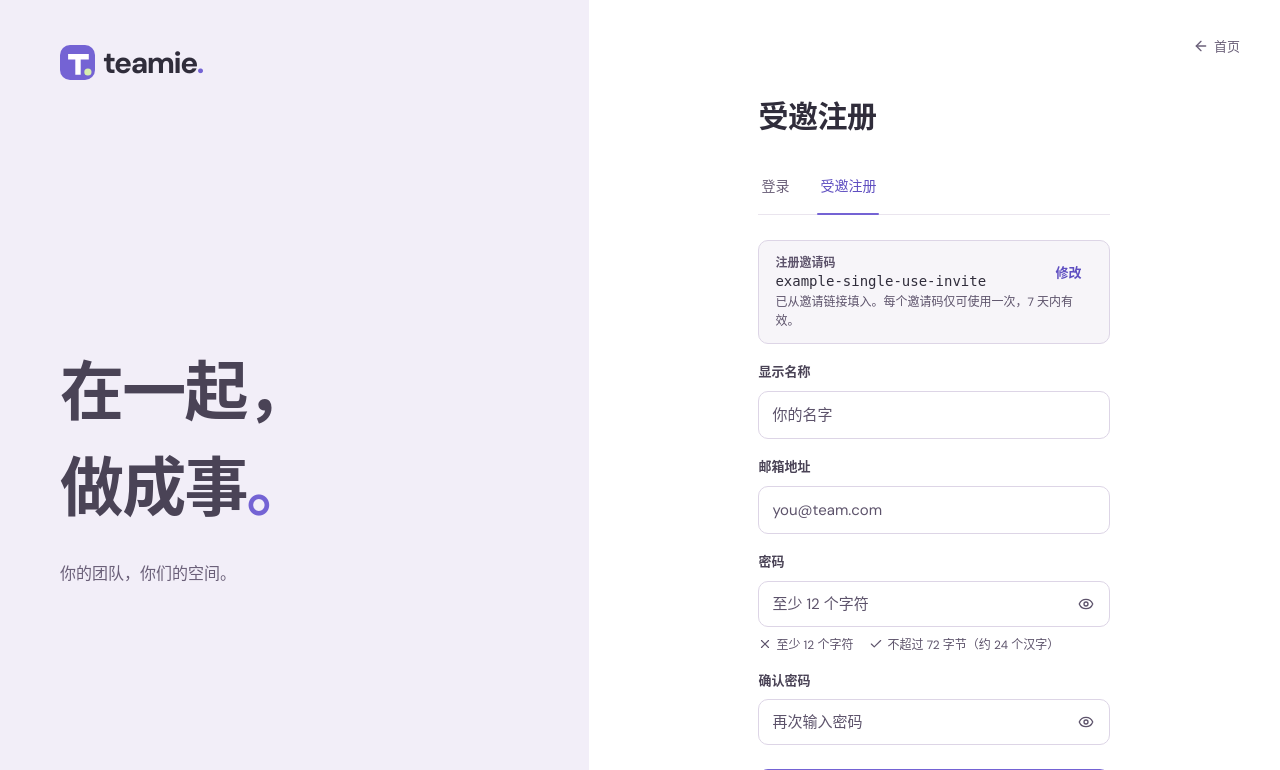
Scenario: registration confirmation › registers with only the contract fields after a matching confirmation
The image size is (1280, 770).
Type "测试伙伴" into the field labelled "显示名称".
click(934, 415); type("测试伙伴")  # box x1=758 y1=391 x2=1110 y2=439
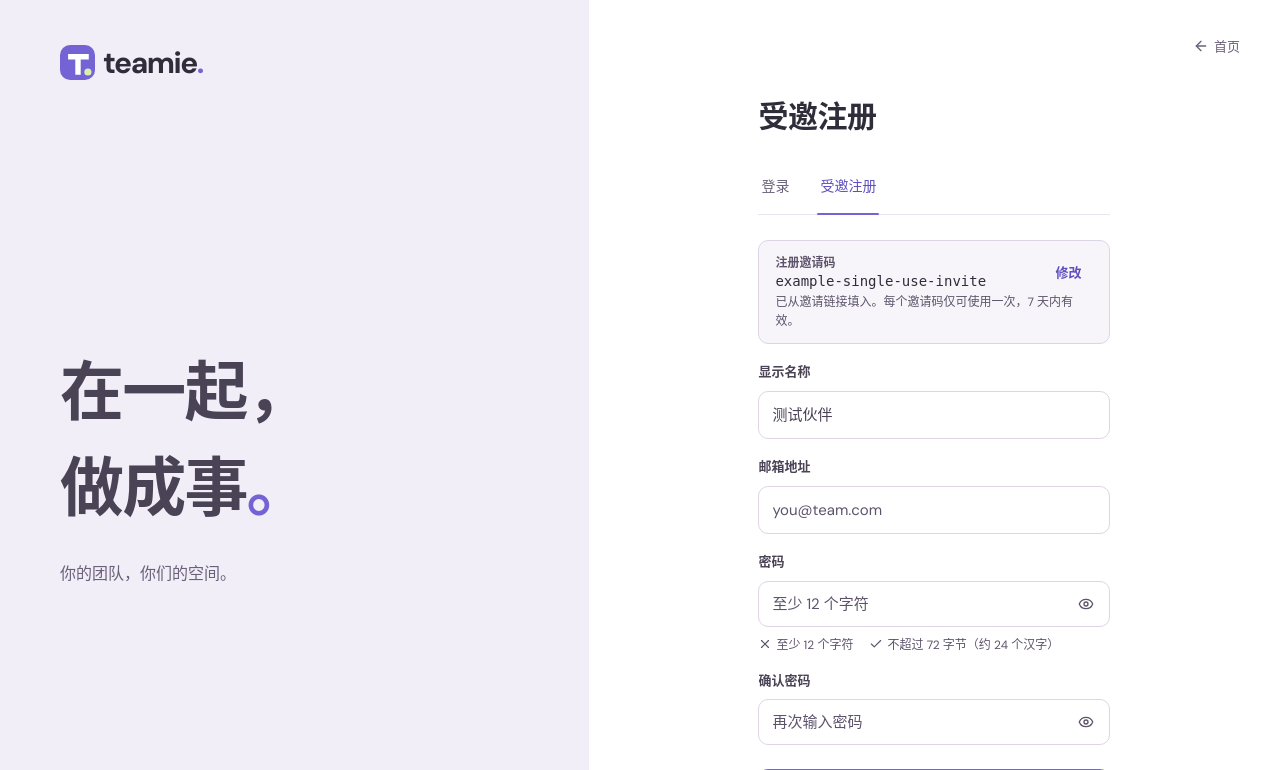
Type "password-test@example.test" into the field labelled "邮箱地址".
click(934, 510); type("password-test@example.test")  # box x1=758 y1=486 x2=1110 y2=534
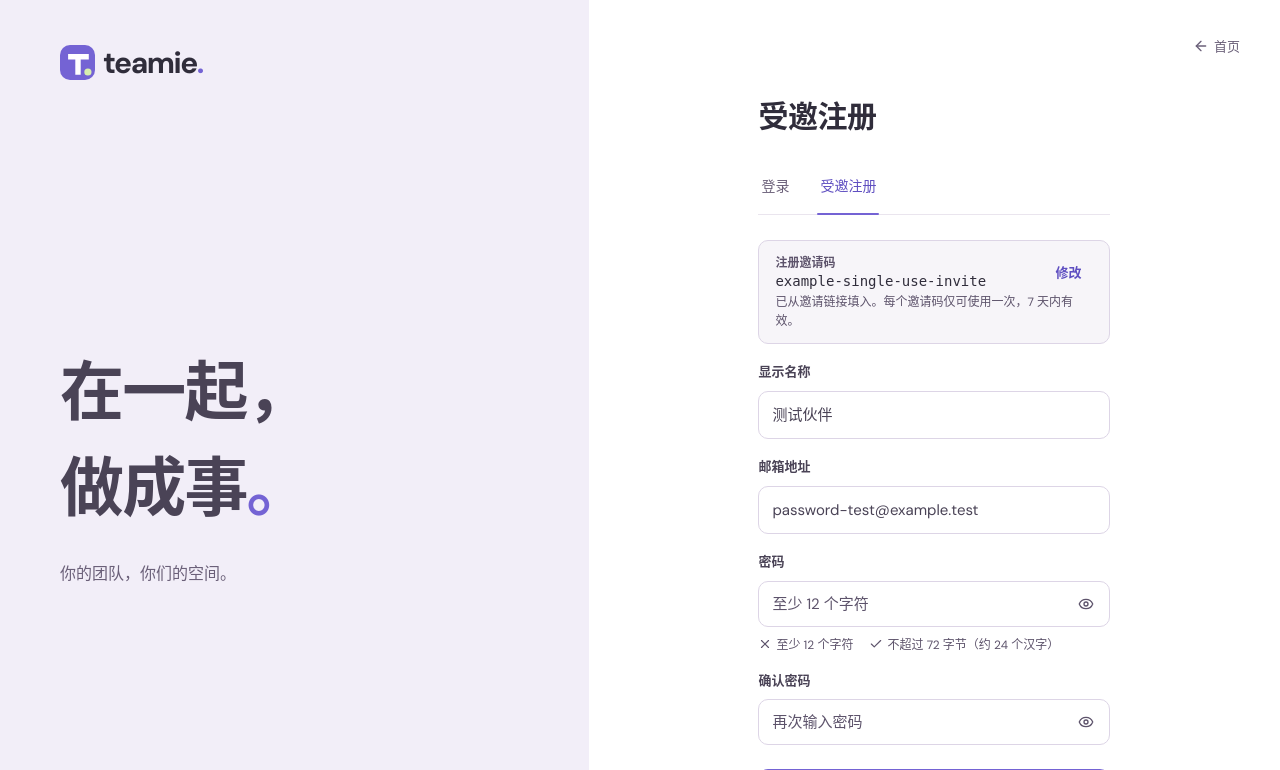
Type "example-new-password" into the password field named "password".
click(934, 604); type("example-new-password")  # box x1=758 y1=581 x2=1110 y2=627
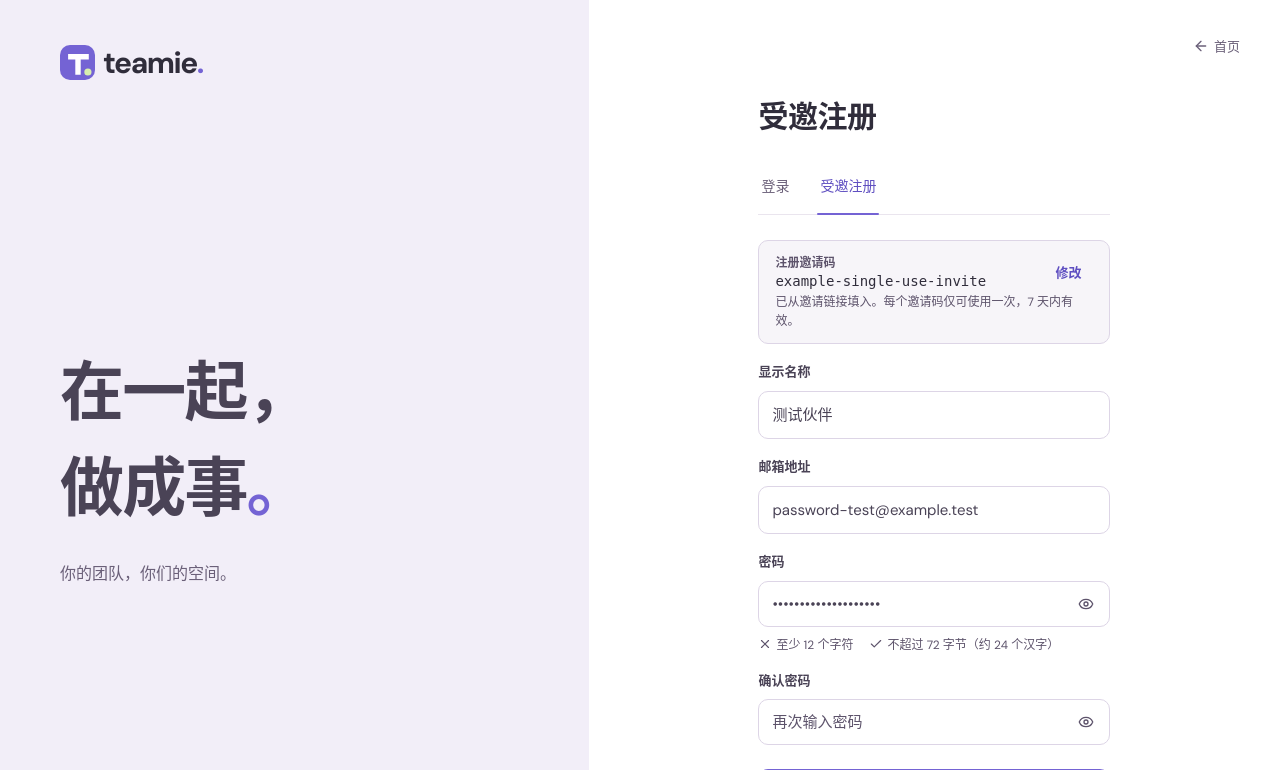
Type "example-new-password" into the password field named "confirmPassword".
click(934, 722); type("example-new-password")  # box x1=758 y1=699 x2=1110 y2=745
(page scrolled)
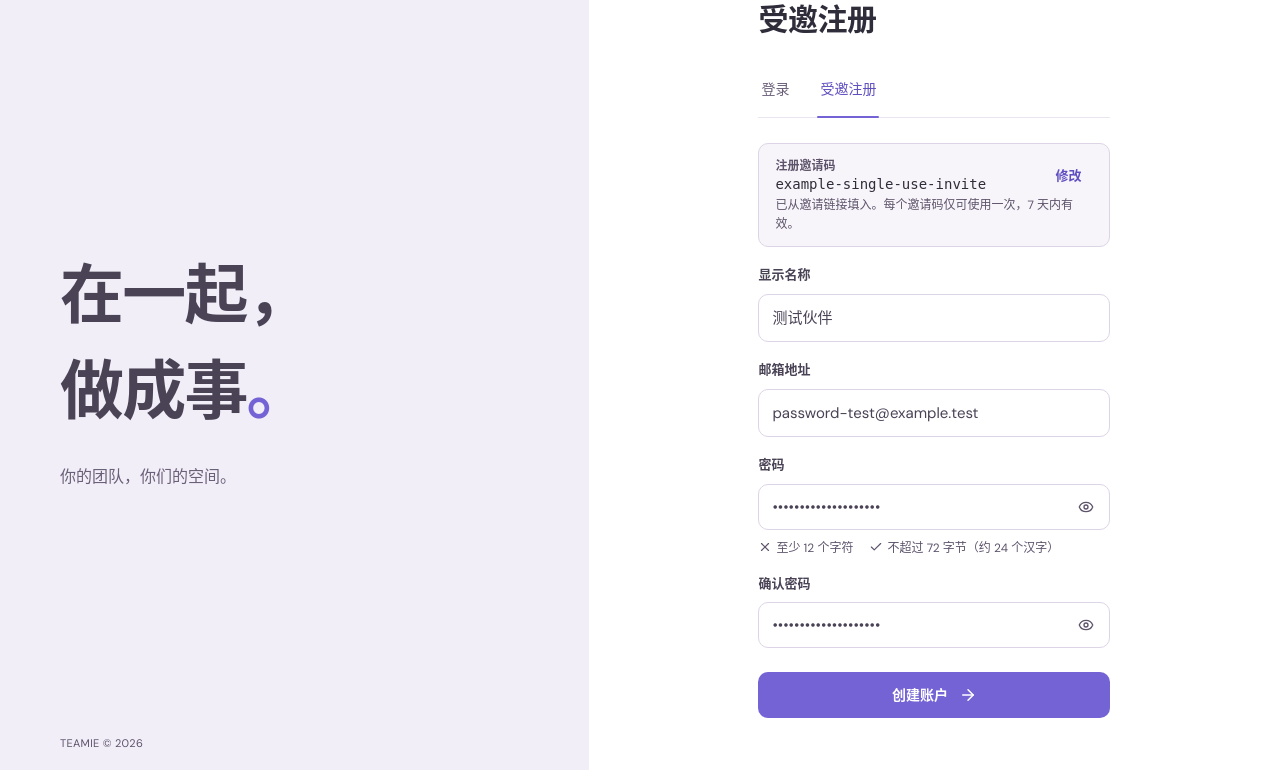
Submit the form, box x1=758 y1=143 x2=1110 y2=718
(page scrolled)
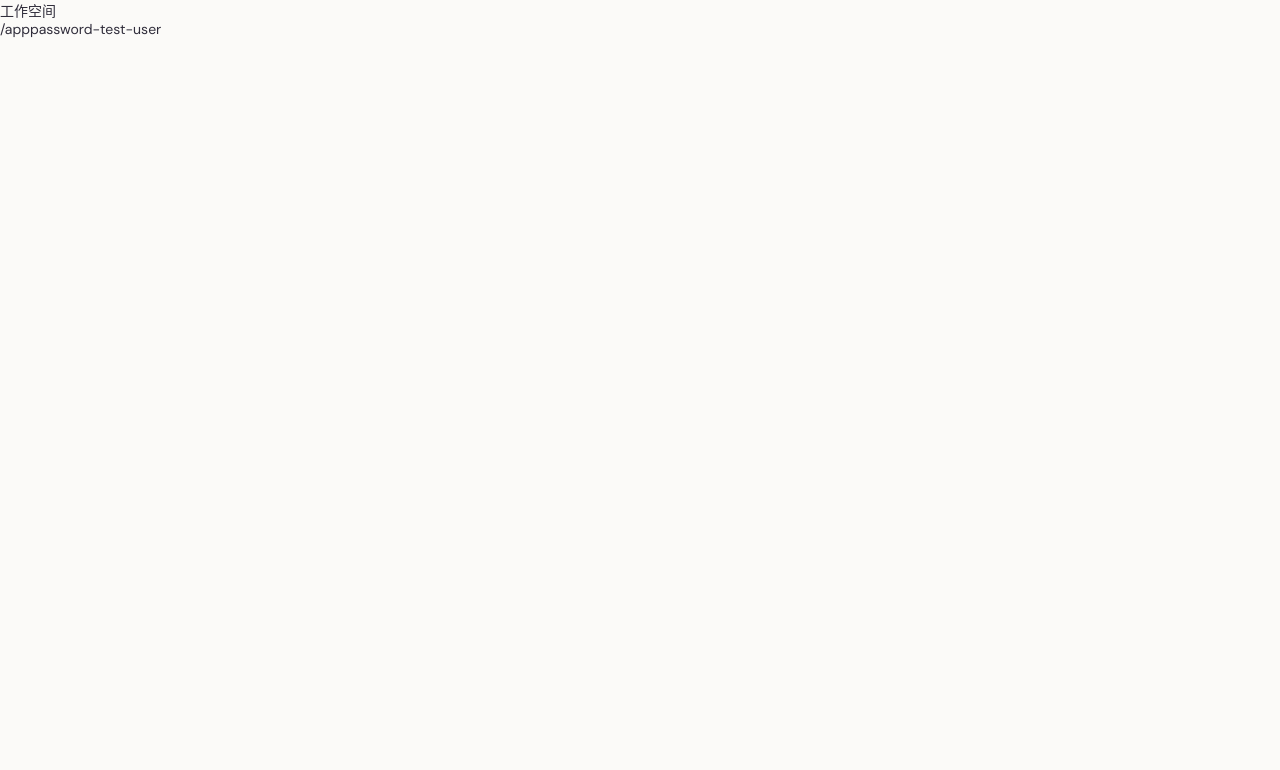
Now the text "/app" is shown, box x1=0 y1=20 x2=30 y2=38
Now the text "password-test-user" is shown, box x1=30 y1=20 x2=161 y2=38
